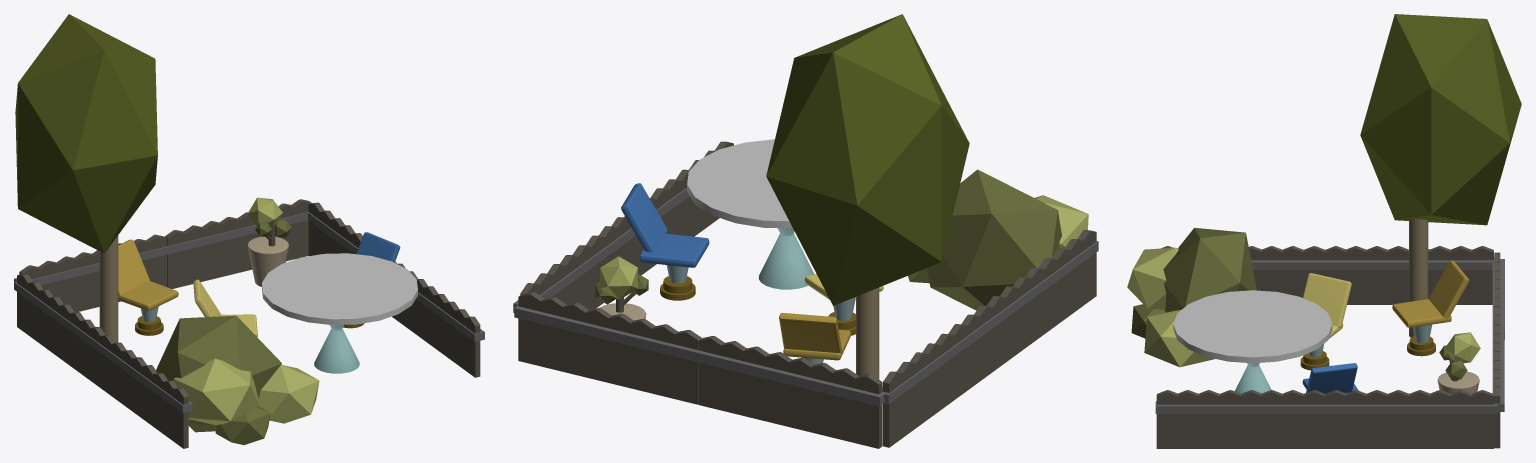
The model's file is SM_house_4-2.fbx.
3 views of the same model, side by side, from view 1: azimuth 30°, elevation 25°; view 2: azimuth 150°, elevation 25°; view 3: azimuth 270°, elevation 25° (orthographic). The views are drawn at different scales.
Parts seen in each view (by area): view 1: polySurface292; view 2: polySurface292; view 3: polySurface292.
Boxes of the visible parts, left/top/right/bottom form: polySurface292: left=14, top=14, right=484, bottom=448; polySurface292: left=513, top=14, right=1098, bottom=448; polySurface292: left=1127, top=14, right=1521, bottom=448.
Bounding box in the file's own units: 331 × 313 × 348.
